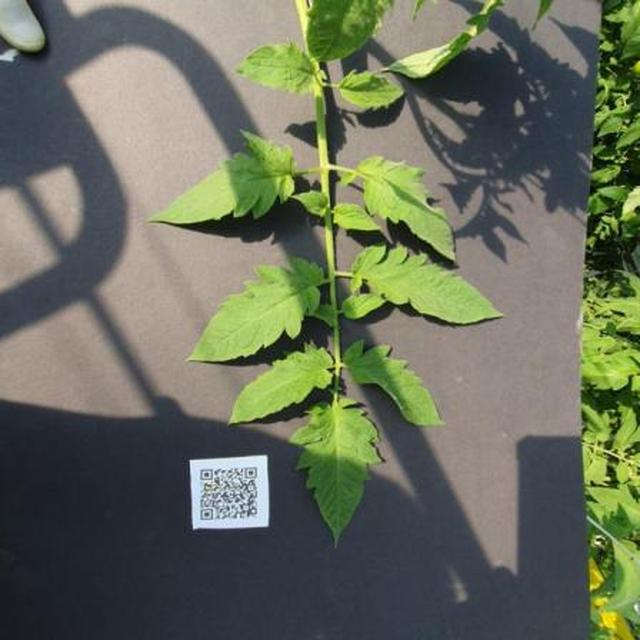Healthy Leaf: (97, 57, 610, 640)
